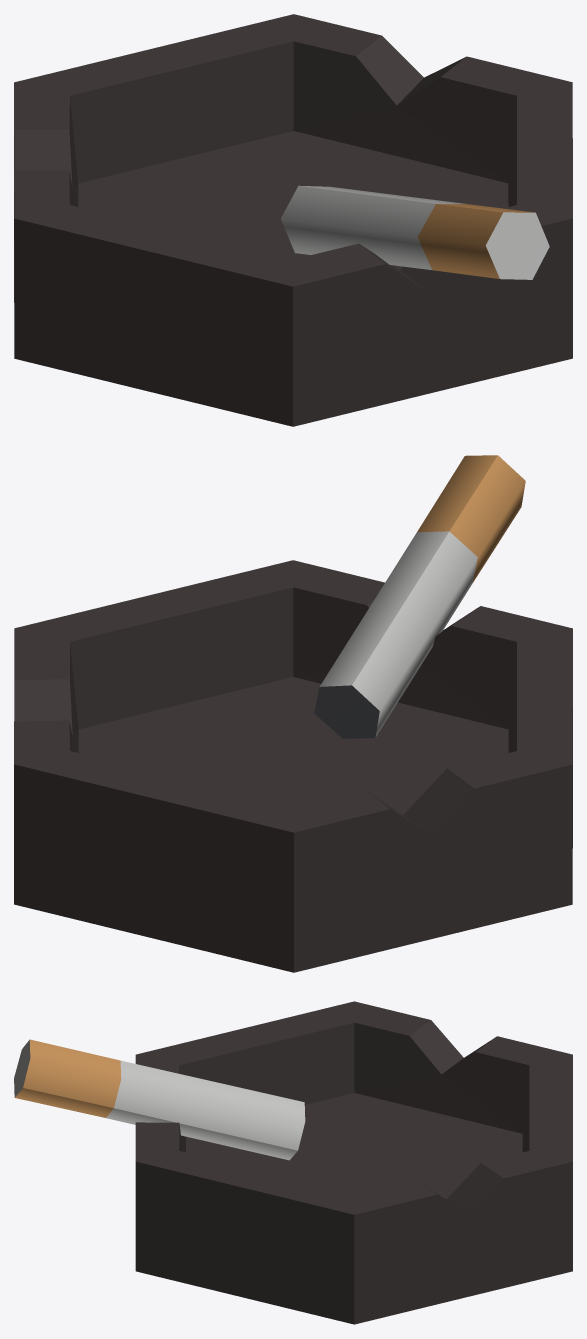
Rendered from Ashtray_withCigarette.fbx.
The picture shows the model from 3 angles, top to bottom: view 1: azimuth 30°, elevation 25°; view 2: azimuth 150°, elevation 25°; view 3: azimuth 270°, elevation 25°; orthographic projection. The views are drawn at different scales.
Visible parts, largest first — view 1: Ashtray_withCigarette; view 2: Ashtray_withCigarette; view 3: Ashtray_withCigarette.
Boxes of the visible parts, <box> form: Ashtray_withCigarette: <box>14,14,572,426</box>; Ashtray_withCigarette: <box>14,455,572,972</box>; Ashtray_withCigarette: <box>14,1001,572,1324</box>.
Size of the model in its own units: 0.1372 by 0.0538 by 0.1518.
